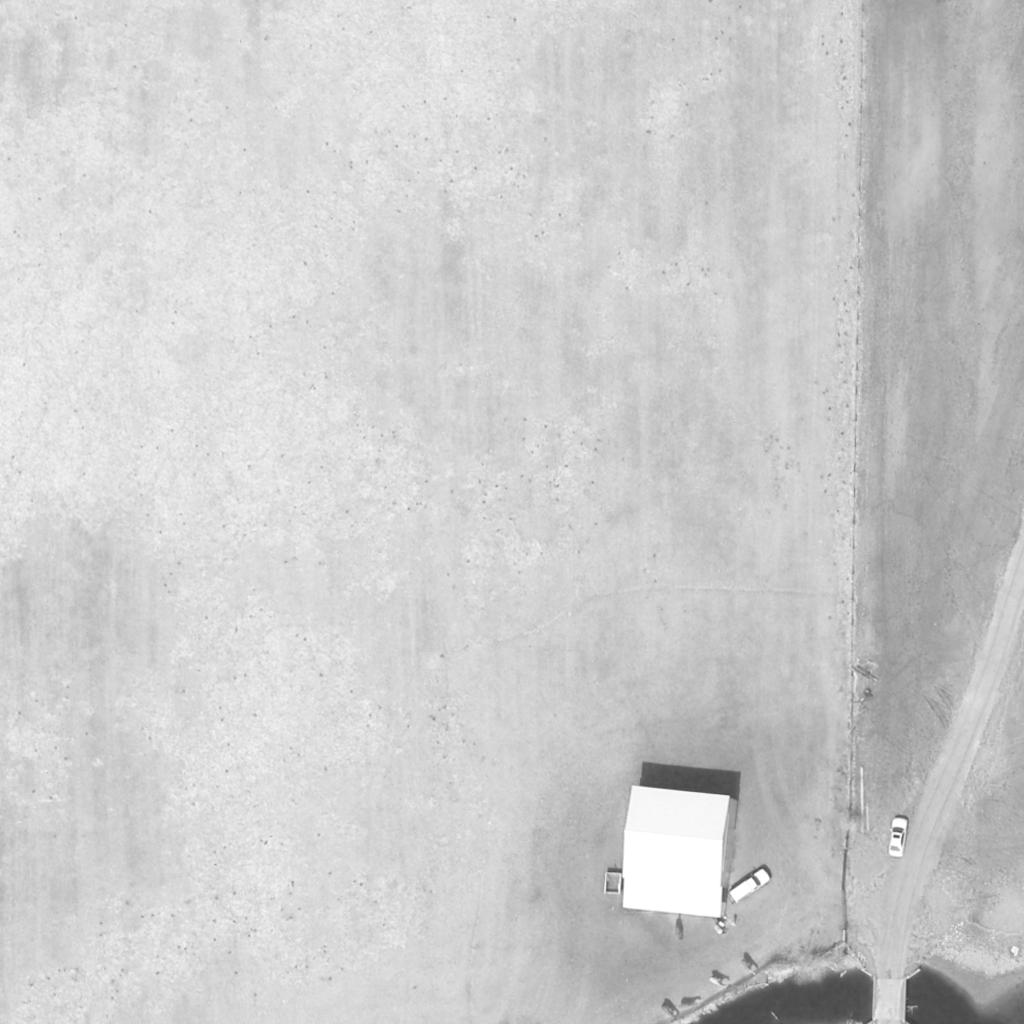vehicle: (727, 868, 773, 908), (890, 816, 908, 858)
